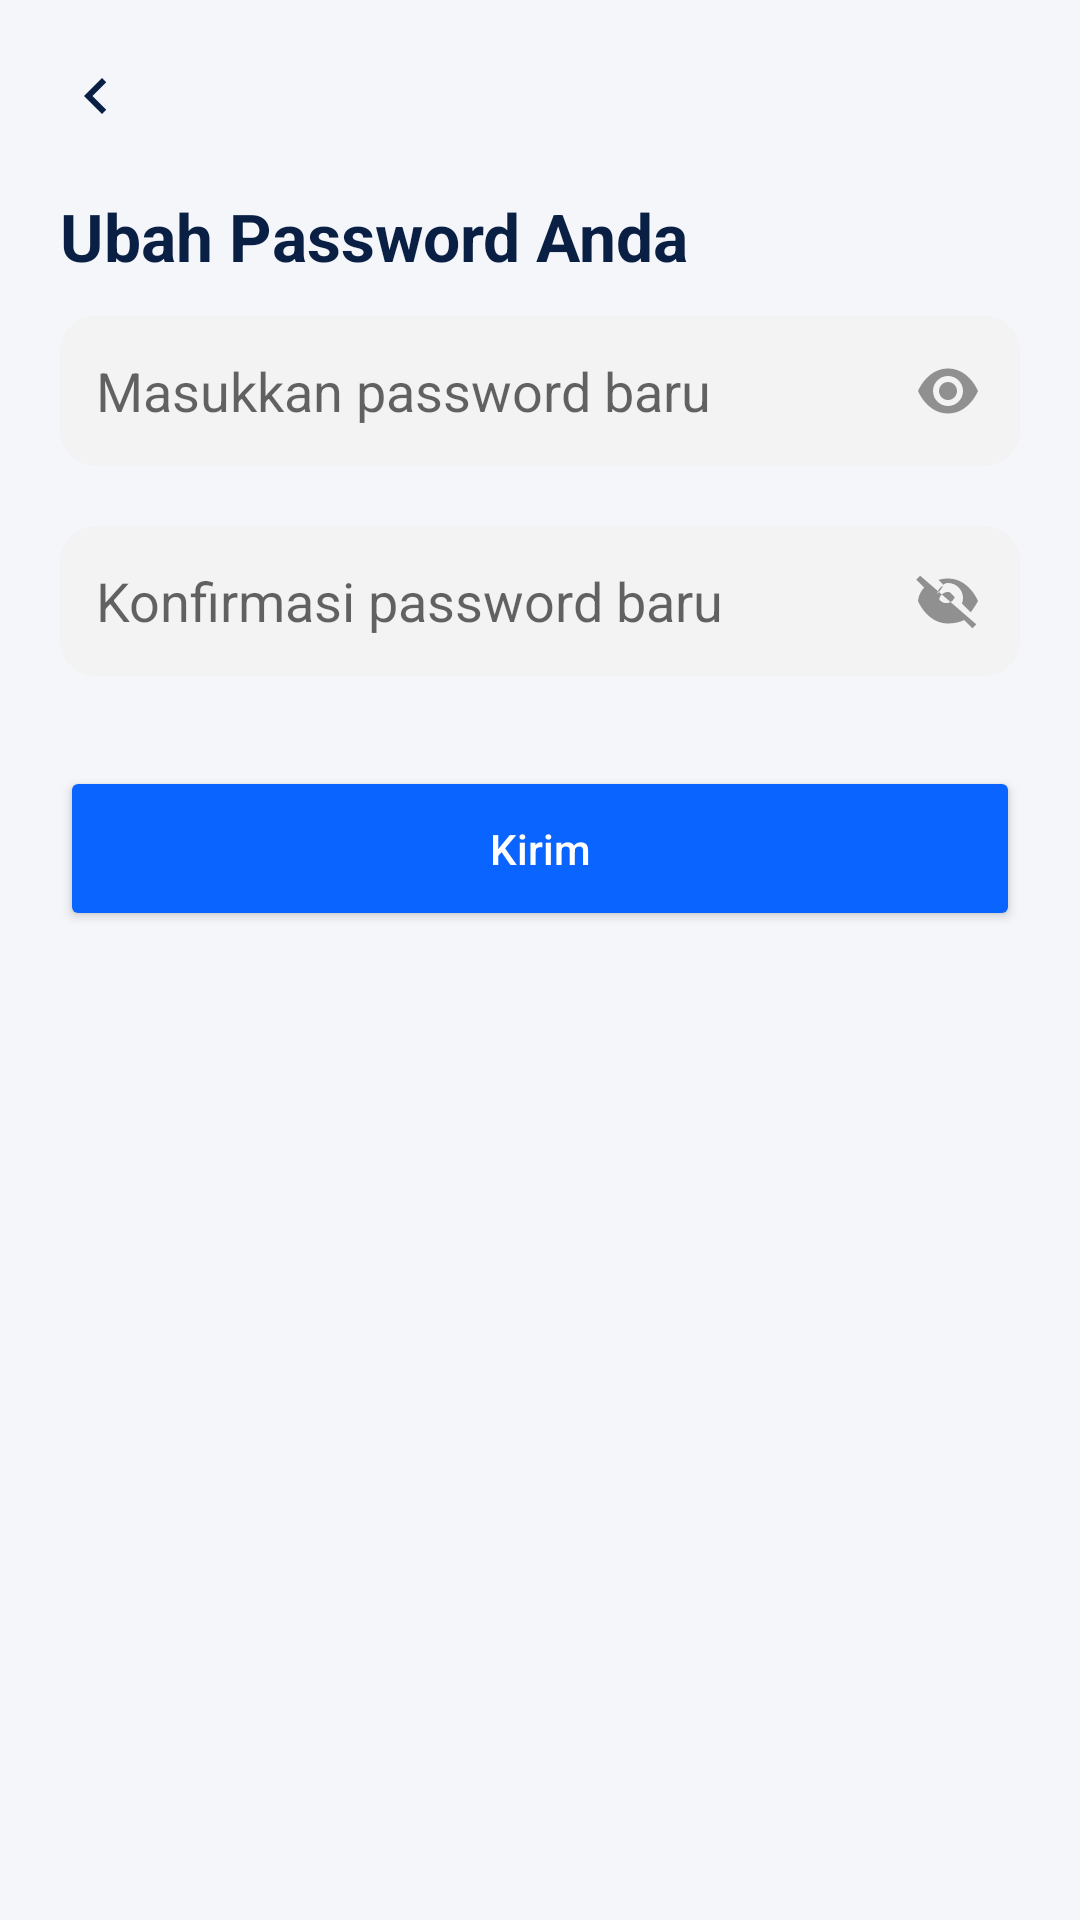

Icons on this 1080px×1920px Android screen, each with the point to tap as [x,y]:
back: [95,96]
